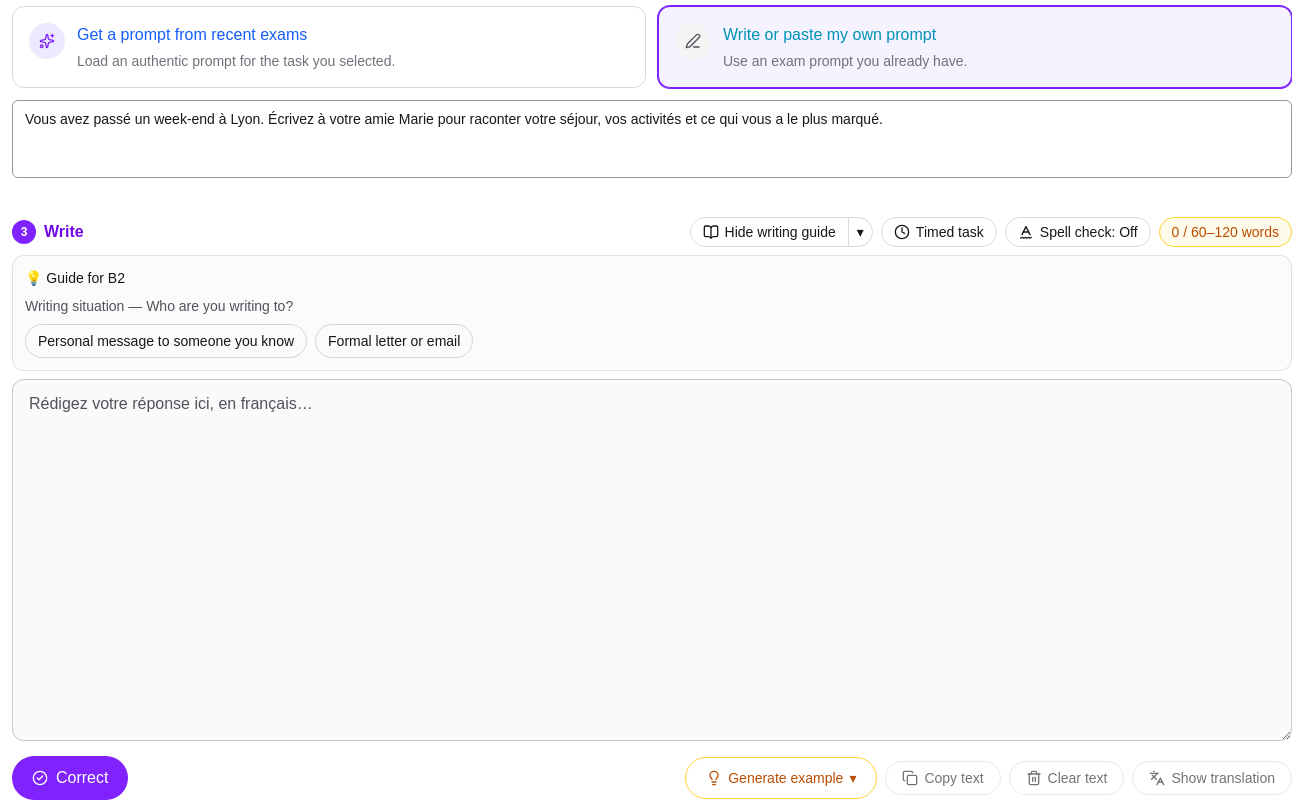
Test: WritingWorkspace: independent level menus › Guided writing's level is independent from the example generator's
(page scrolled)
What coordinates should you click on to do the following:
click the button "Generate example ▾"
I would click on:
 (781, 778)
Its box is [690, 762, 872, 794].
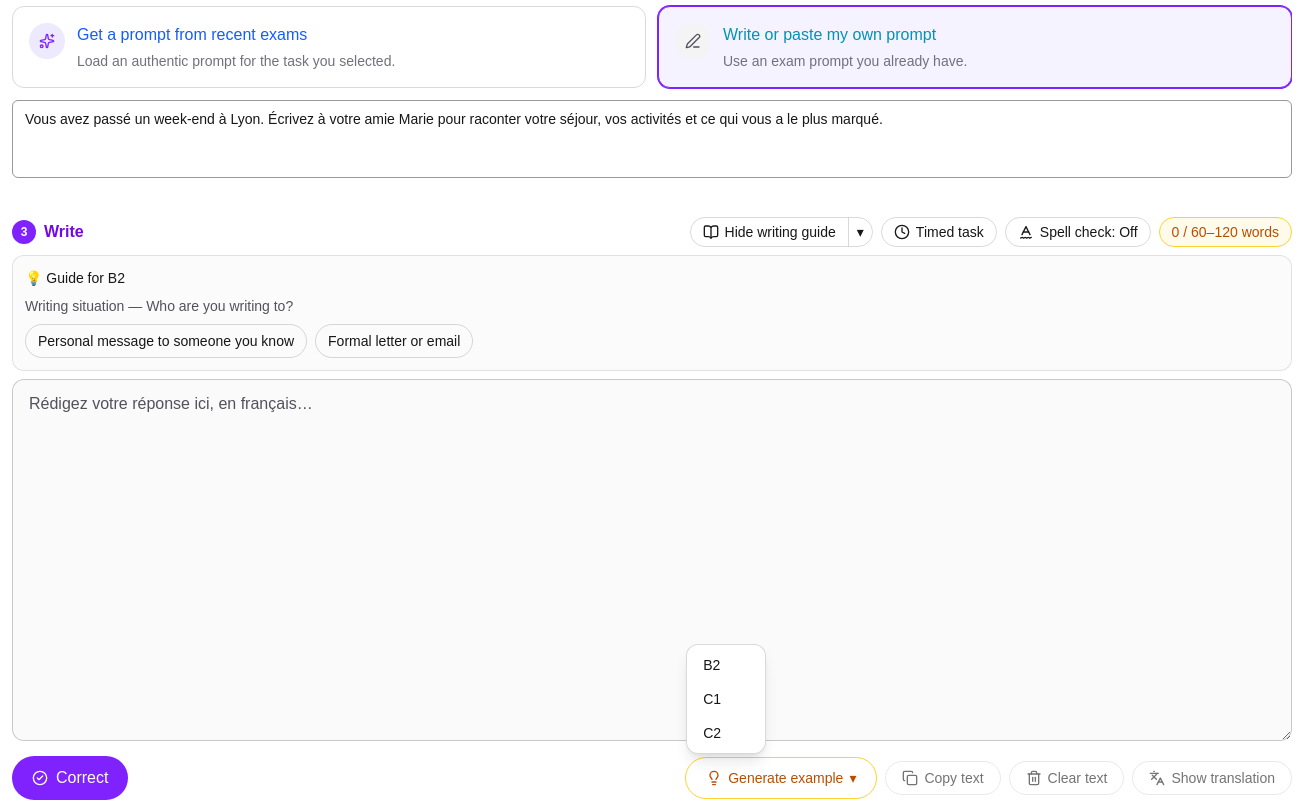
What coordinates should you click on to do the following:
click the menu item "C1"
I would click on:
 (726, 699)
Its box is [691, 683, 761, 715].
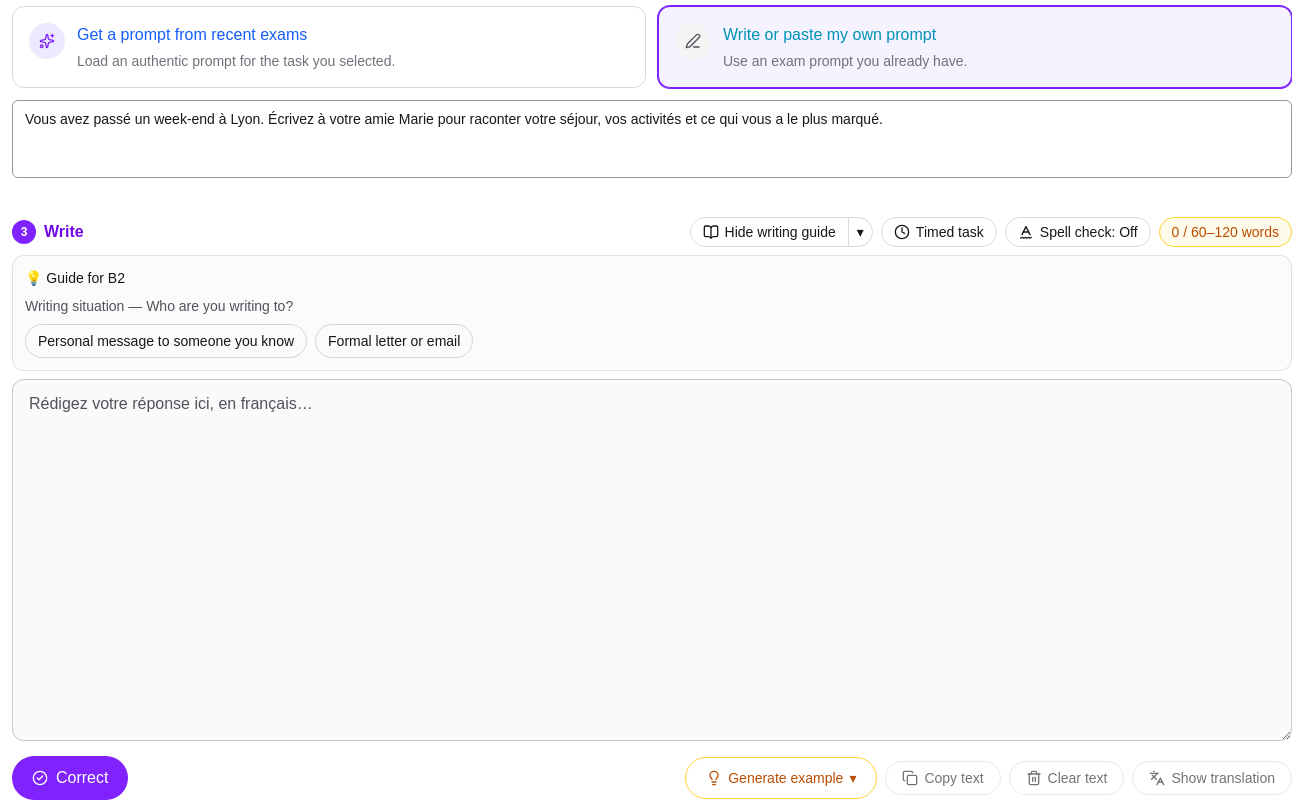
Expected: the text "Guide for B2" is shown, [46, 270, 125, 286]
What coordinates should you click on to do the following:
click the button "▾"
I would click on:
 (860, 232)
Its box is [848, 218, 872, 246].
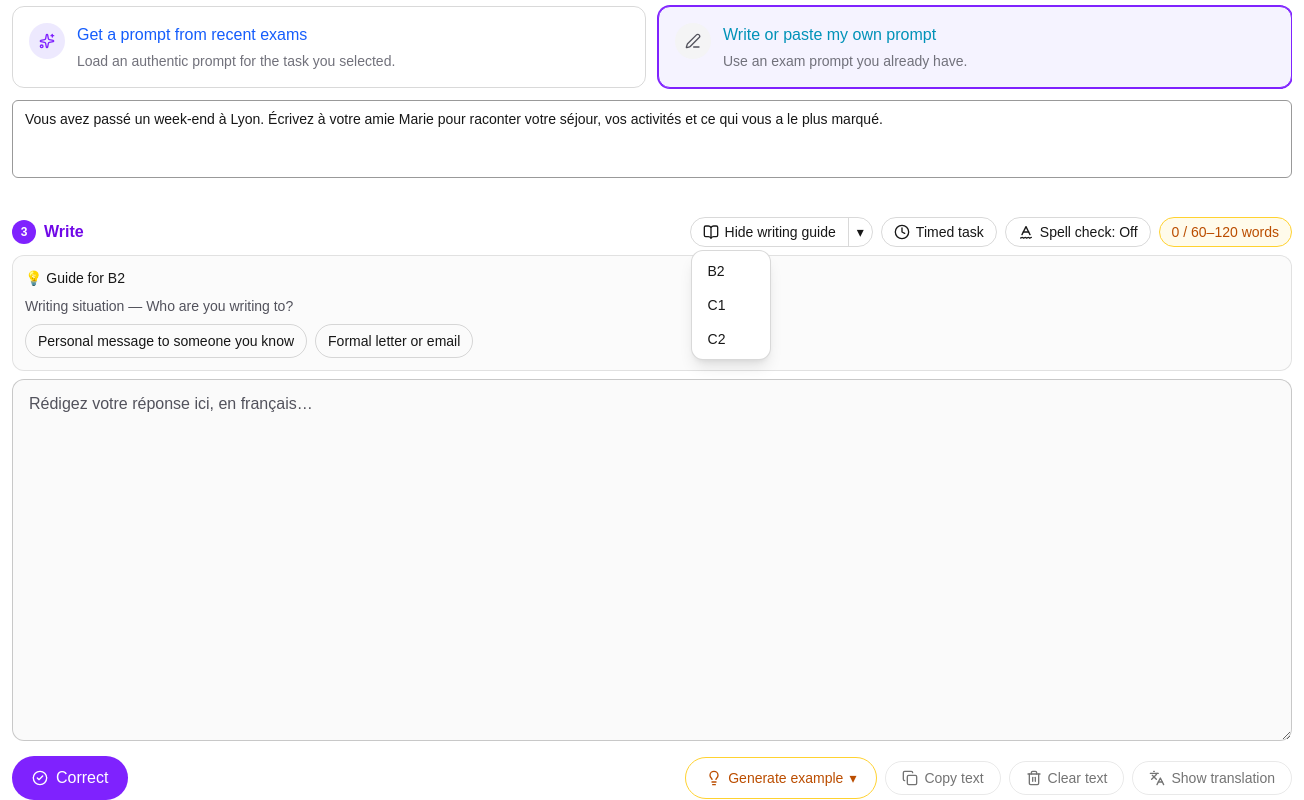
What coordinates should you click on to do the following:
click the menu item "C2"
I would click on:
 (730, 339)
Its box is [696, 323, 766, 355].
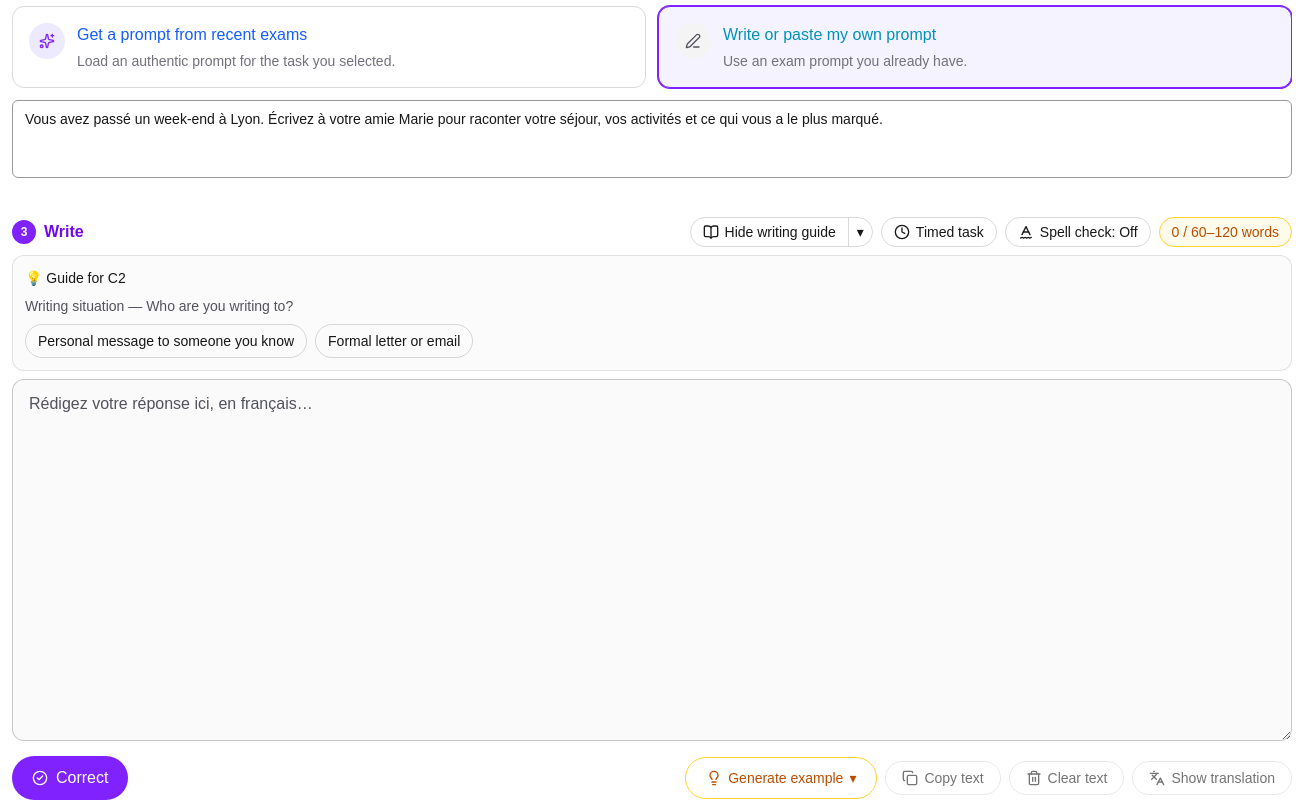
Expected: the text "Guide for C2" is shown, [46, 270, 126, 286]
Expected: the text "Guide for B2" is gone
